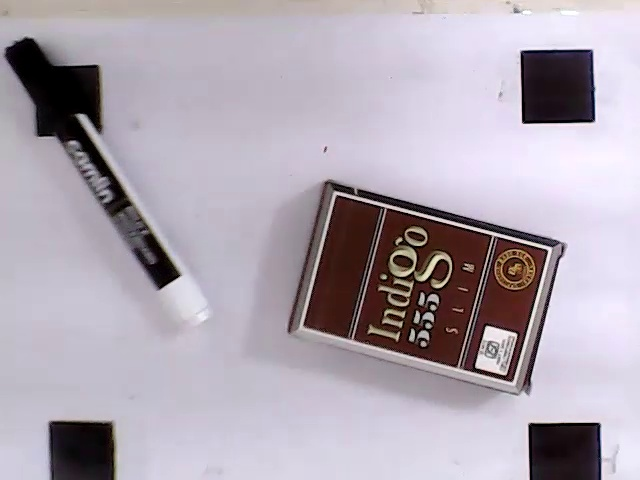BEX: (304, 192, 547, 384)
